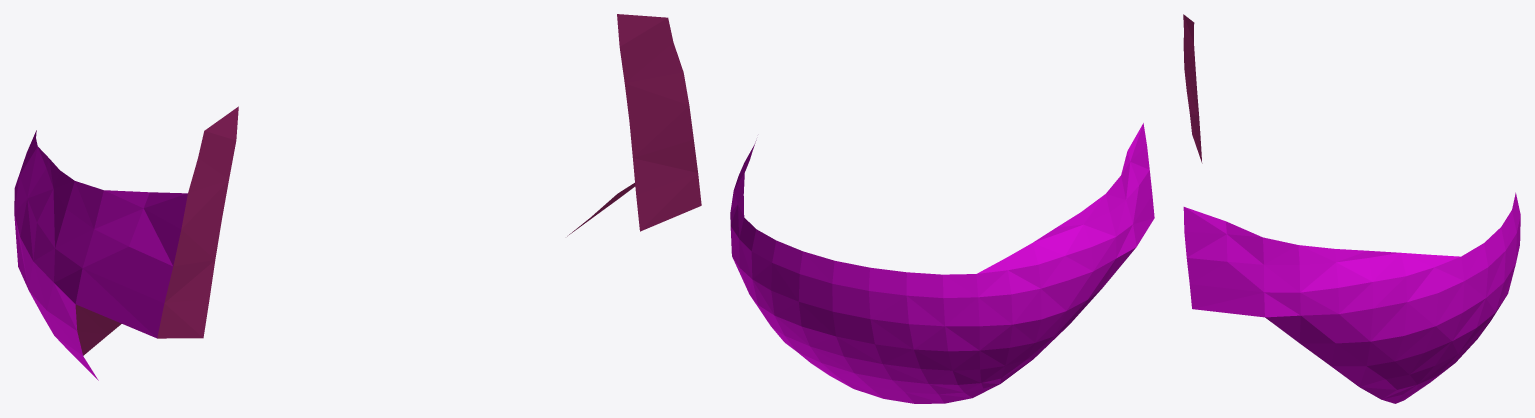
The picture shows the model from 3 angles, left to right: view 1: azimuth 30°, elevation 25°; view 2: azimuth 150°, elevation 25°; view 3: azimuth 270°, elevation 25°; orthographic projection. The views are drawn at different scales.
Parts seen in each view (by area): view 1: shape; view 2: shape; view 3: shape.
Part boxes in pixels (x1,y1,x2,y2): shape: (14,14,701,380); shape: (730,123,1154,403); shape: (1183,14,1520,403).
Bounding box in the file's own units: 59.08 × 42.36 × 43.99.
